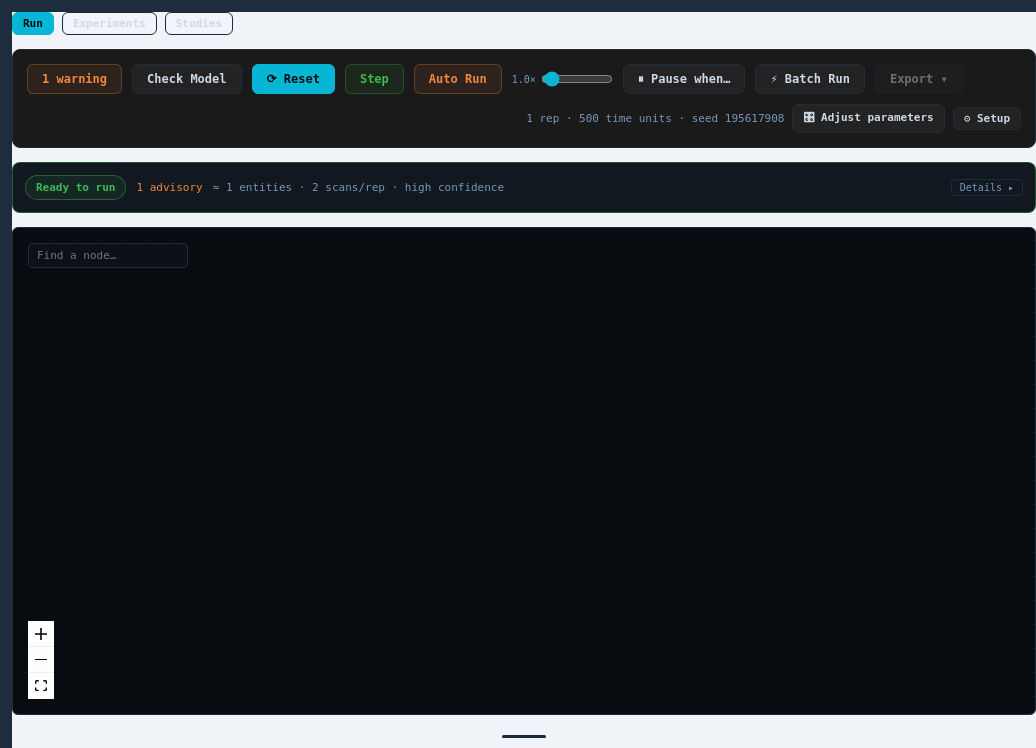
Test: accessibility pass › exposes single-run status and cancellation-save-status as live regions, with the progress tiles muted
The width and height of the screenshot is (1036, 748).
Click the button "⚡ Batch Run". click: {"x": 810, "y": 79}
box: [755,64,865,94]
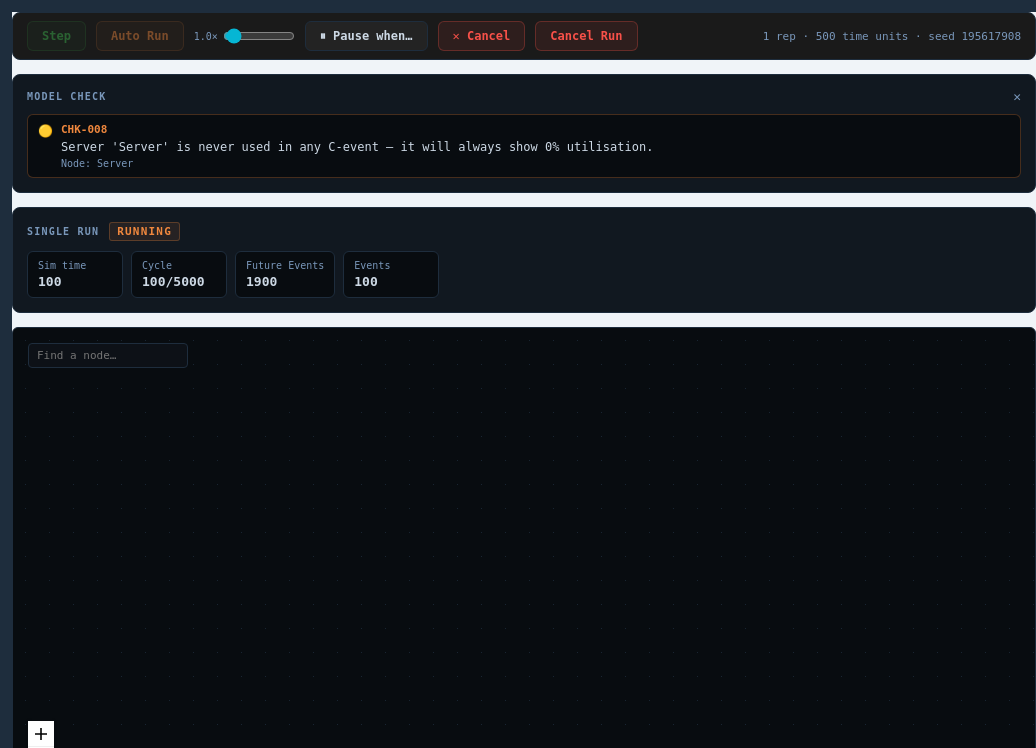
Expected: the text "SINGLE RUN" is shown, [27,226,99,237]
Expected: the element showing "Sim time 100 Cycle 100/5000 Future Events 1900 Events 100" is shown, [27,251,439,298]
Click the button "Cancel Run". click: {"x": 586, "y": 36}
box: [535,21,638,51]
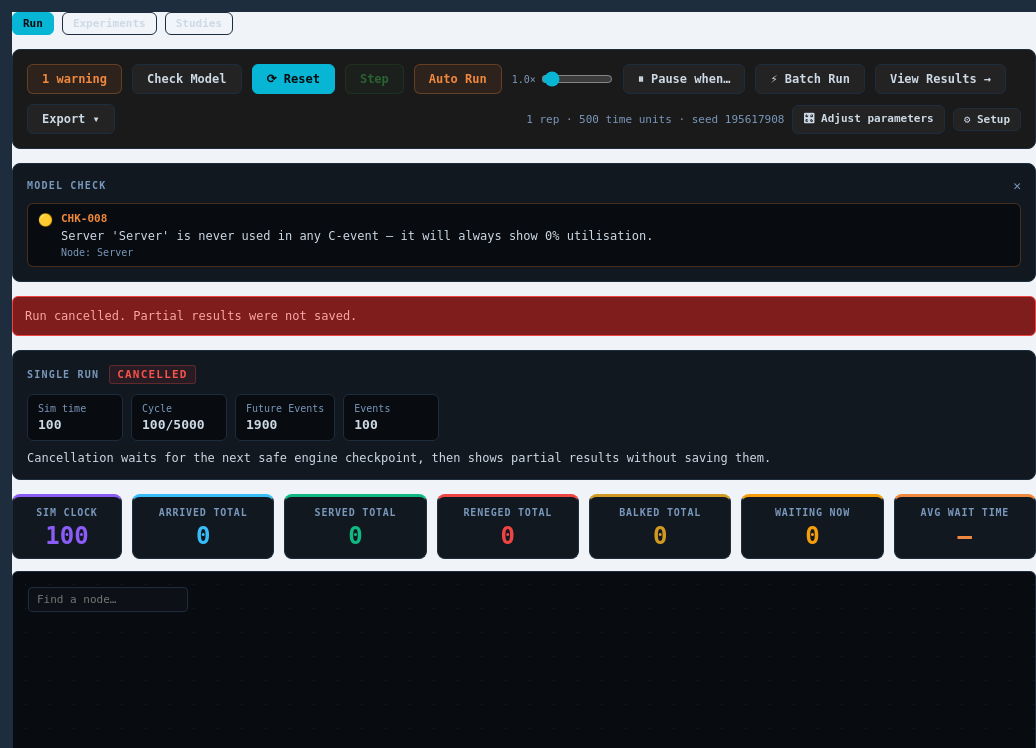
Expected: the text "cancelled" is shown, [109,365,196,384]
Expected: the message "Run cancelled. Partial results were not saved." is shown, [12,296,1035,336]
